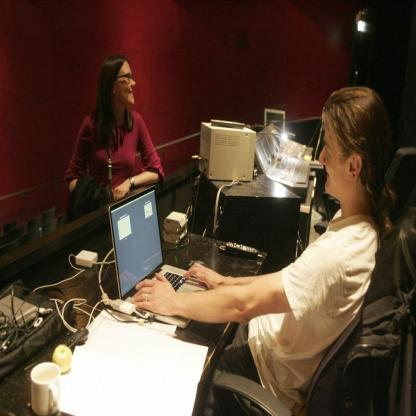board: (107, 182, 206, 328)
